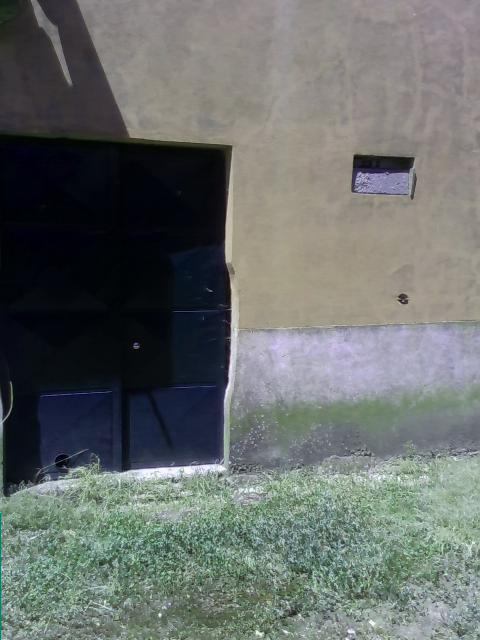closed_door: (1, 134, 233, 471)
